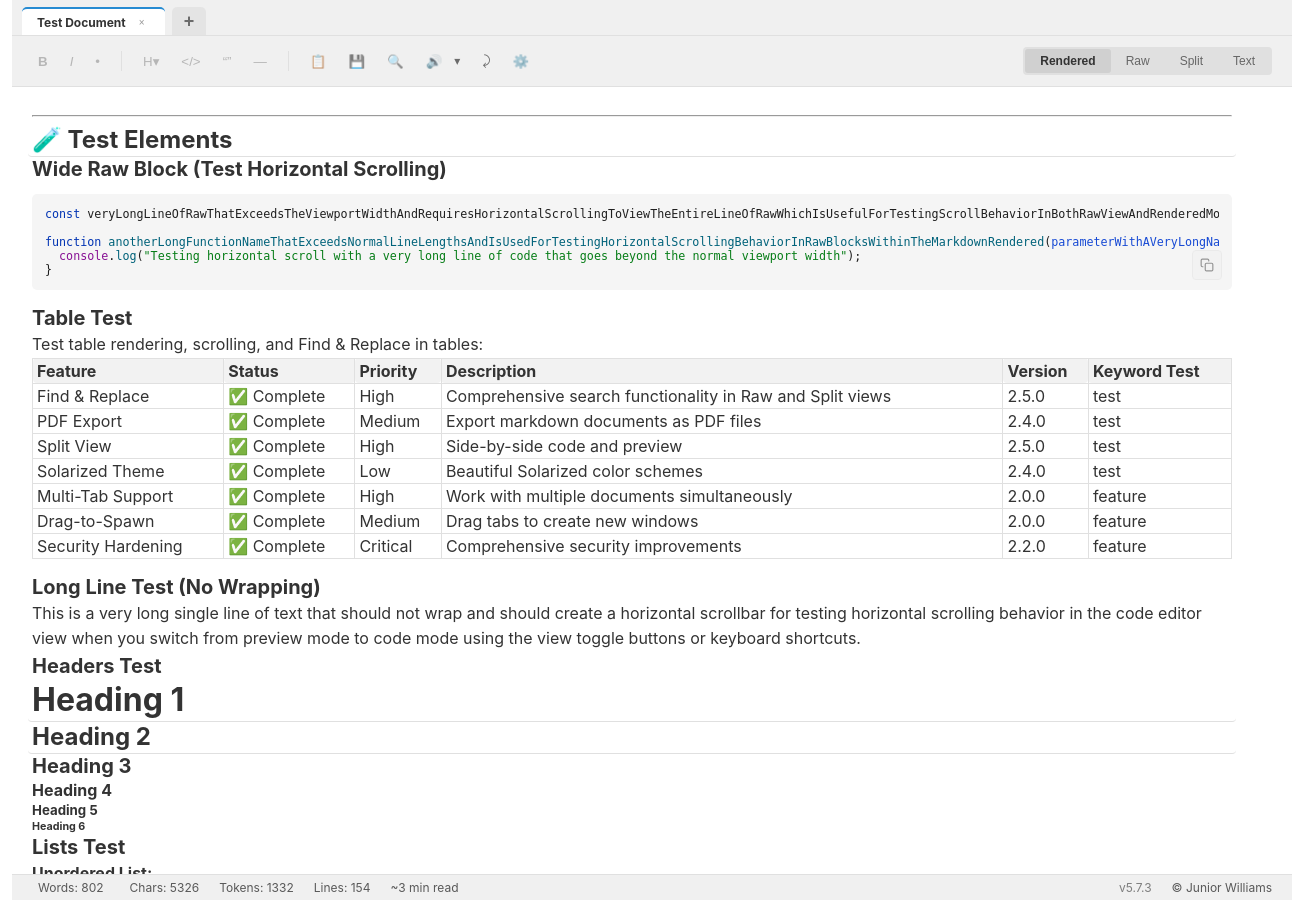
Test case: App Integration Tests › Status Bar › should update character count when content changes
// Create new document
Step 1. Click the button named "New document" → (189, 21), box x1=172 y1=7 x2=206 y2=35
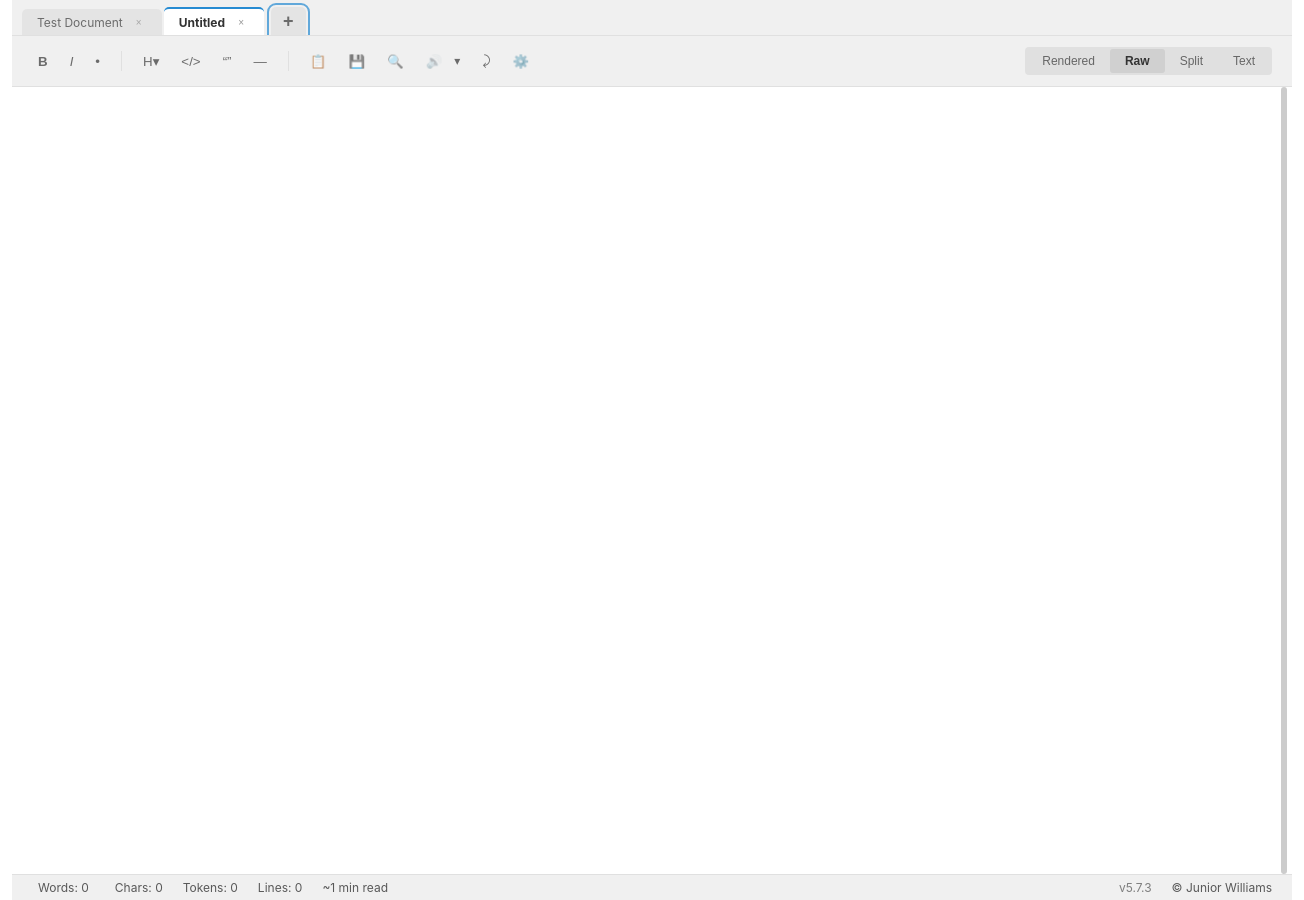
Step 2. Type "hello" into the text box → (652, 480), box x1=12 y1=87 x2=1292 y2=874
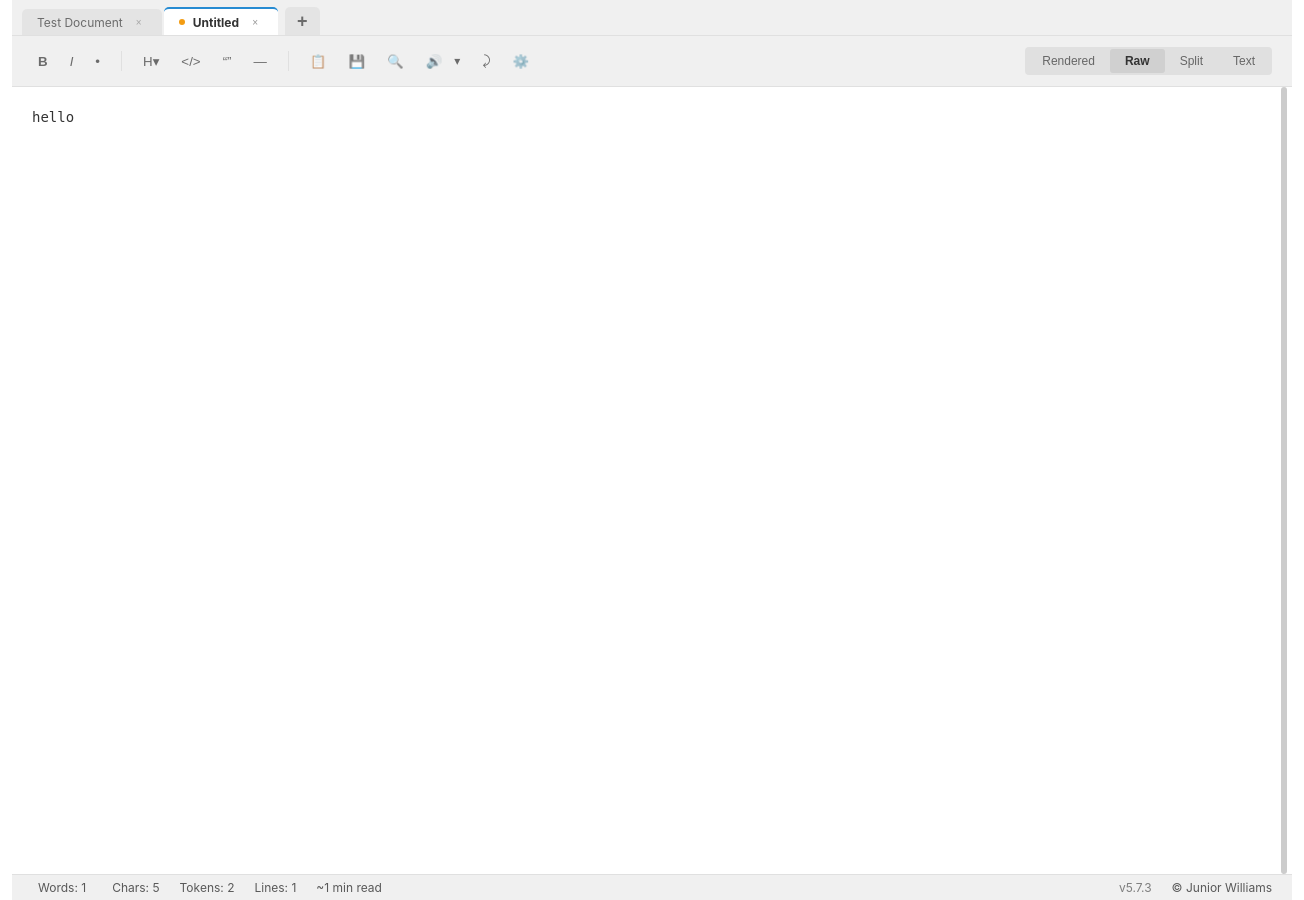
Now the text "Chars: 5" is shown, box x1=112 y1=880 x2=160 y2=895
